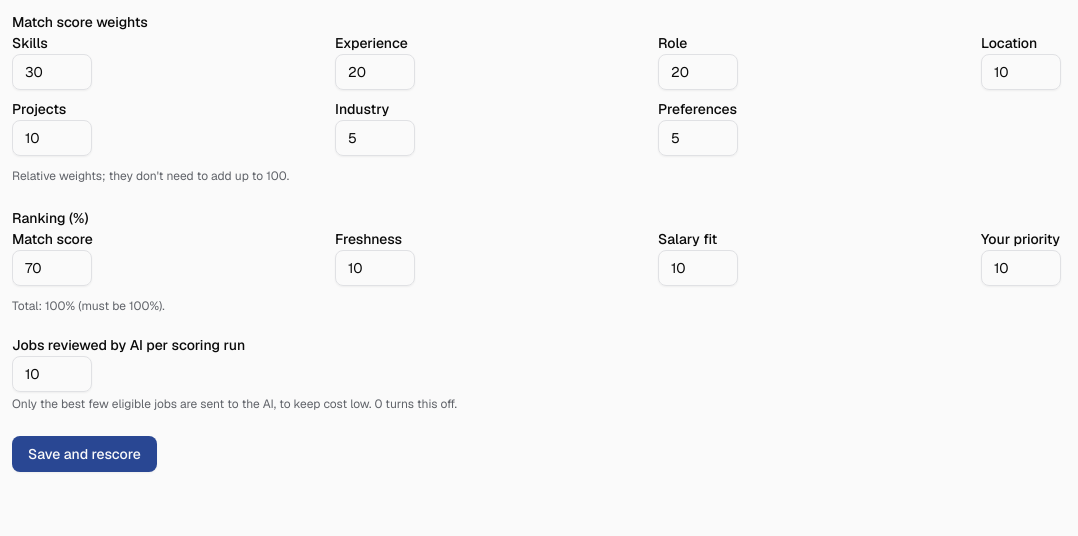
Test: ScoringForm › requires ranking percentages to total 100
This screenshot has width=1078, height=536.
Step 1. Replace the text in the number field labelled "Match score" with "80" → (52, 268), box [12,250,92,286]
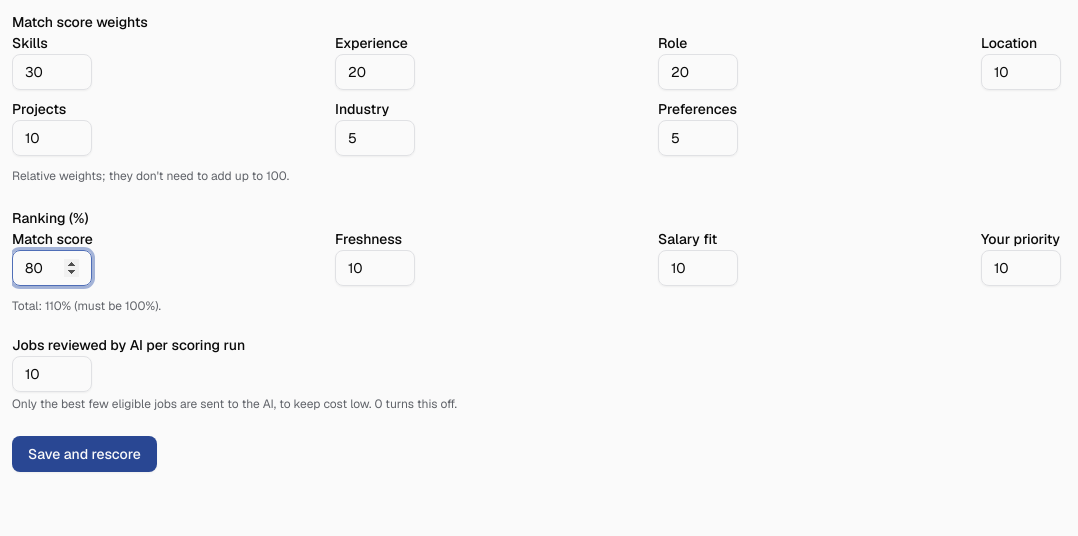
Step 2. Click the button "Save and rescore" → (84, 454), box [12,436,157,472]
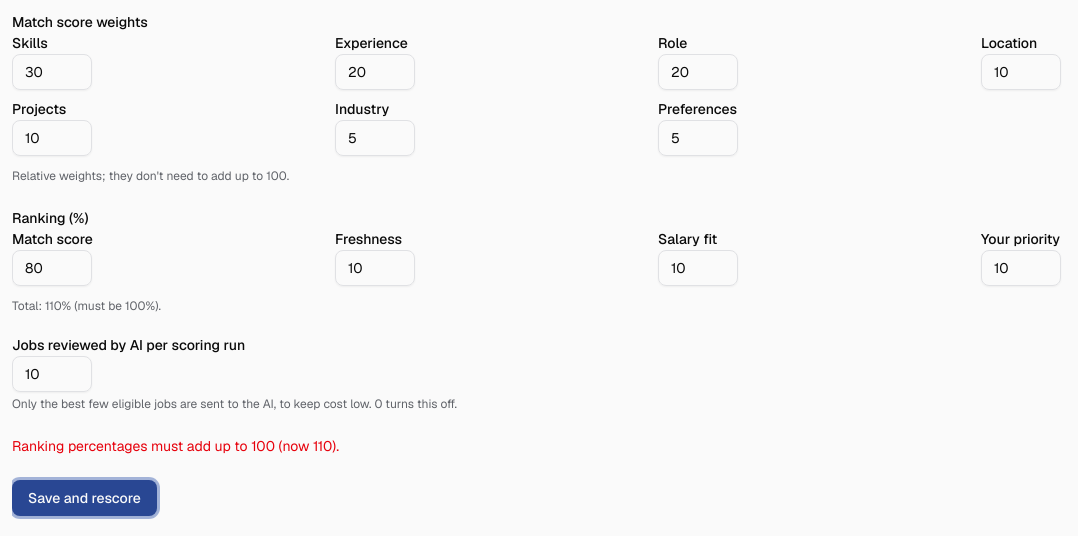
expect the message shows "must add up to 100 (now 110)": met, box [12,437,339,455]
